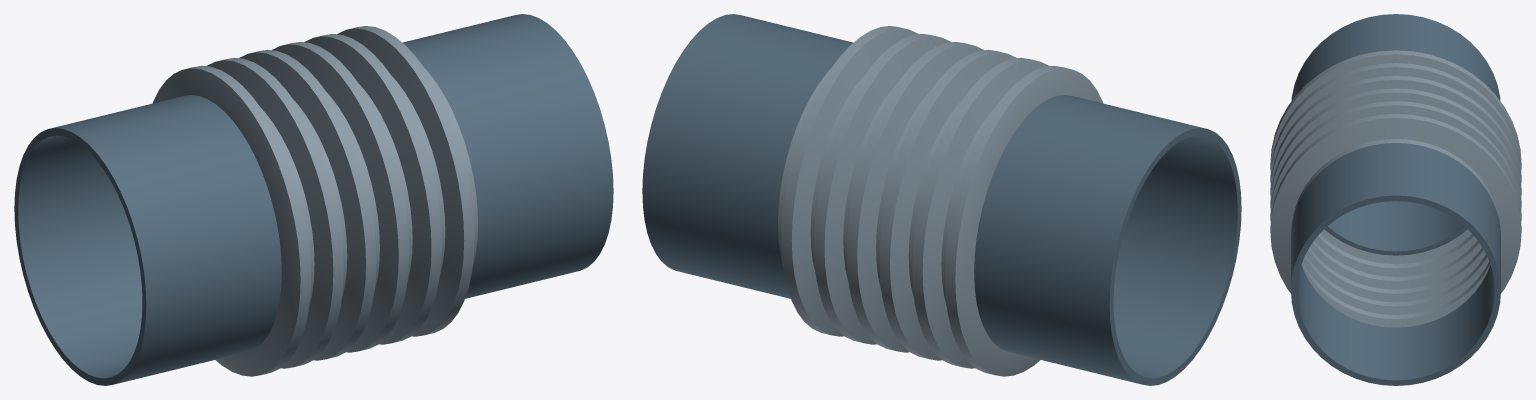
The model's file is silf-dn150-L325-D159.glb.
The picture shows the model from 3 angles, left to right: view 1: azimuth 30°, elevation 25°; view 2: azimuth 150°, elevation 25°; view 3: azimuth 270°, elevation 25°; orthographic projection. The views are drawn at different scales.
Visible parts, largest first — view 1: prokladka_silfon_1, patrubok_1, patrubok_2; view 2: prokladka_silfon_1, patrubok_1, patrubok_2; view 3: prokladka_silfon_1, patrubok_2, patrubok_1.
Boxes of the visible parts, <box> form: prokladka_silfon_1: <box>152,26,477,376</box>; patrubok_1: <box>14,95,281,385</box>; patrubok_2: <box>403,14,613,298</box>; prokladka_silfon_1: <box>778,26,1103,376</box>; patrubok_1: <box>974,95,1241,385</box>; patrubok_2: <box>642,14,852,298</box>; prokladka_silfon_1: <box>1270,50,1521,327</box>; patrubok_2: <box>1291,143,1500,385</box>; patrubok_1: <box>1291,14,1500,255</box>.
Size of the model in its own units: 325 by 190 by 190.
